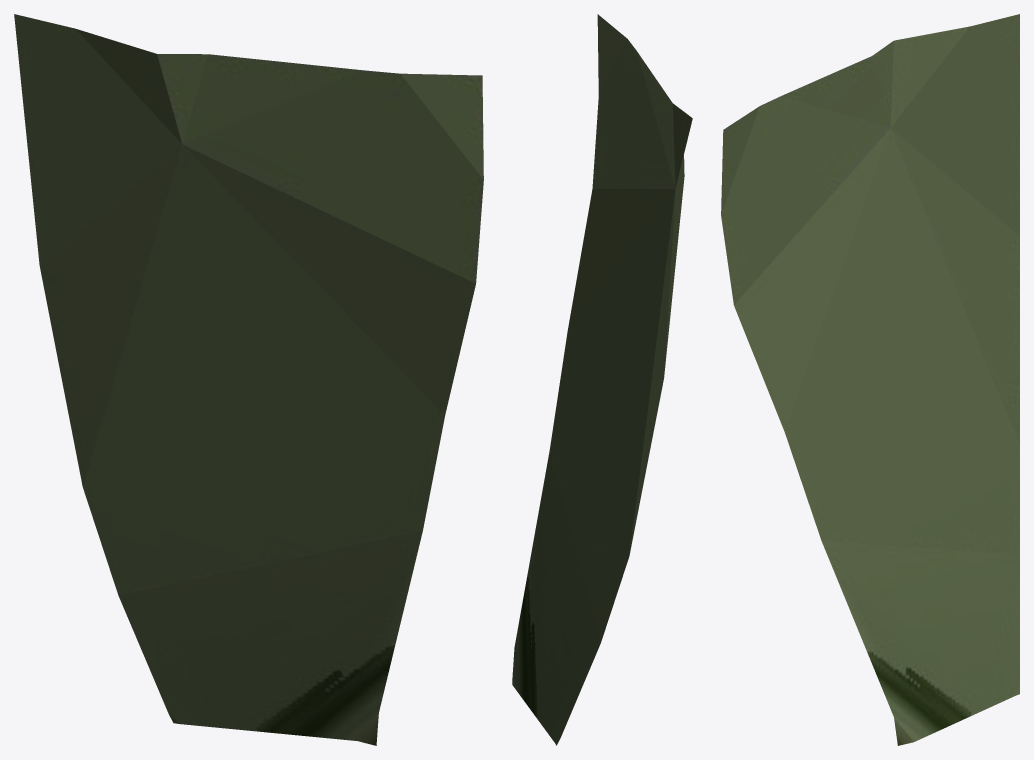
The picture shows the model from 3 angles, left to right: view 1: azimuth 30°, elevation 25°; view 2: azimuth 150°, elevation 25°; view 3: azimuth 270°, elevation 25°; orthographic projection. The views are drawn at different scales.
Size of the model in its own units: 1.19 by 2.95 by 1.3.
2 materials, 2 textured.
